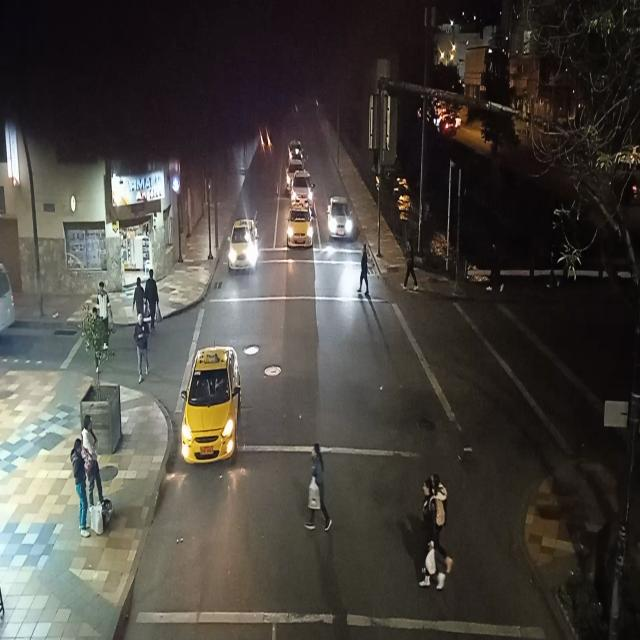CMT: (292, 172, 312, 203)
SED: (182, 349, 240, 463), (287, 210, 311, 247)
